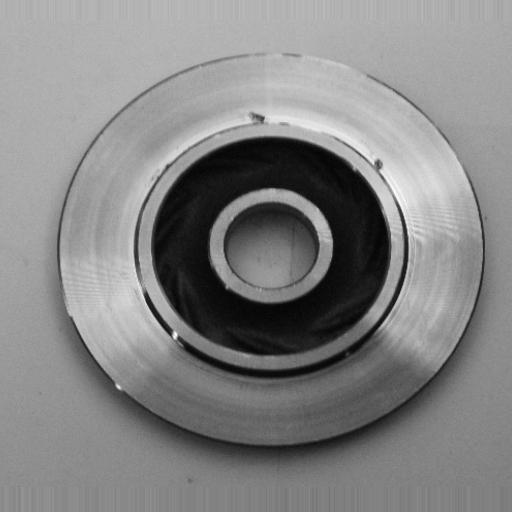crack: (363, 145, 396, 187), (243, 105, 276, 132)
scratch: (158, 304, 197, 362)
unpolished_casting: (55, 49, 485, 451)
